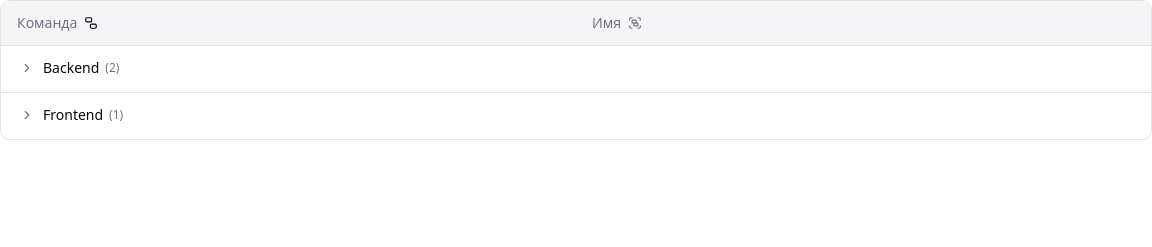
Test: Table grouping › раскрывает сгруппированную строку по клику на переключатель
The image size is (1152, 247).
Expected: the text "Анна" is not shown
What coordinates should you click on to do the following:
click the button named "Развернуть строку" next to "Backend"
I would click on:
 (27, 68)
Its box is [17,58,37,78].
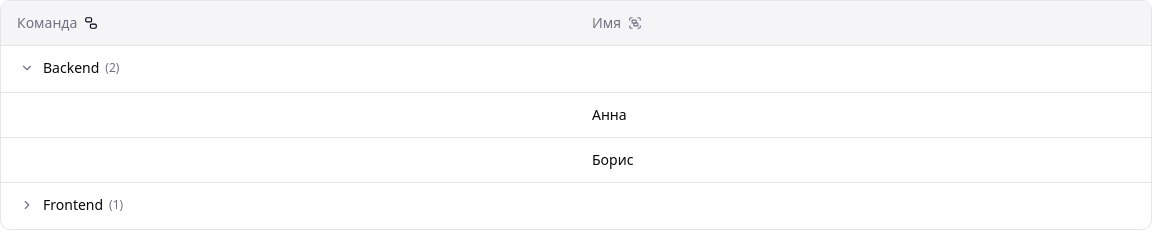
Now the text "Анна" is shown, box [576,92,1151,137]
Now the text "Борис" is shown, box [576,137,1151,182]
